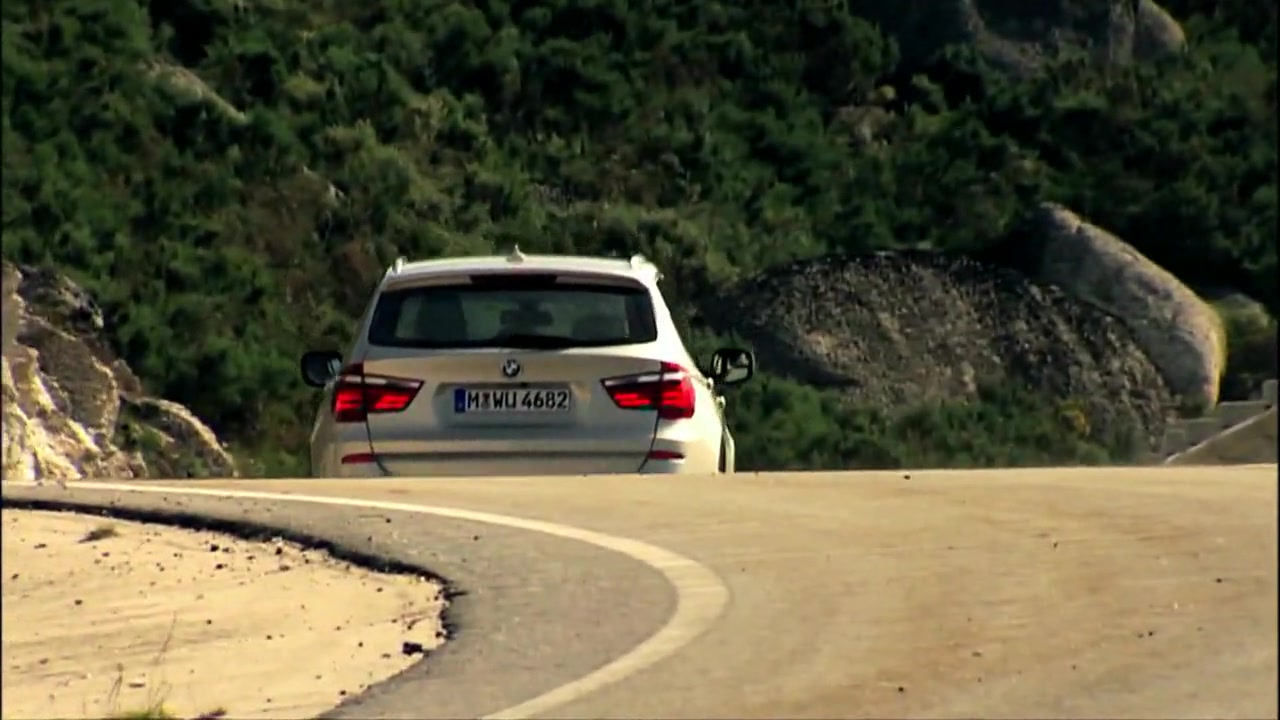car: (303, 256, 757, 479)
